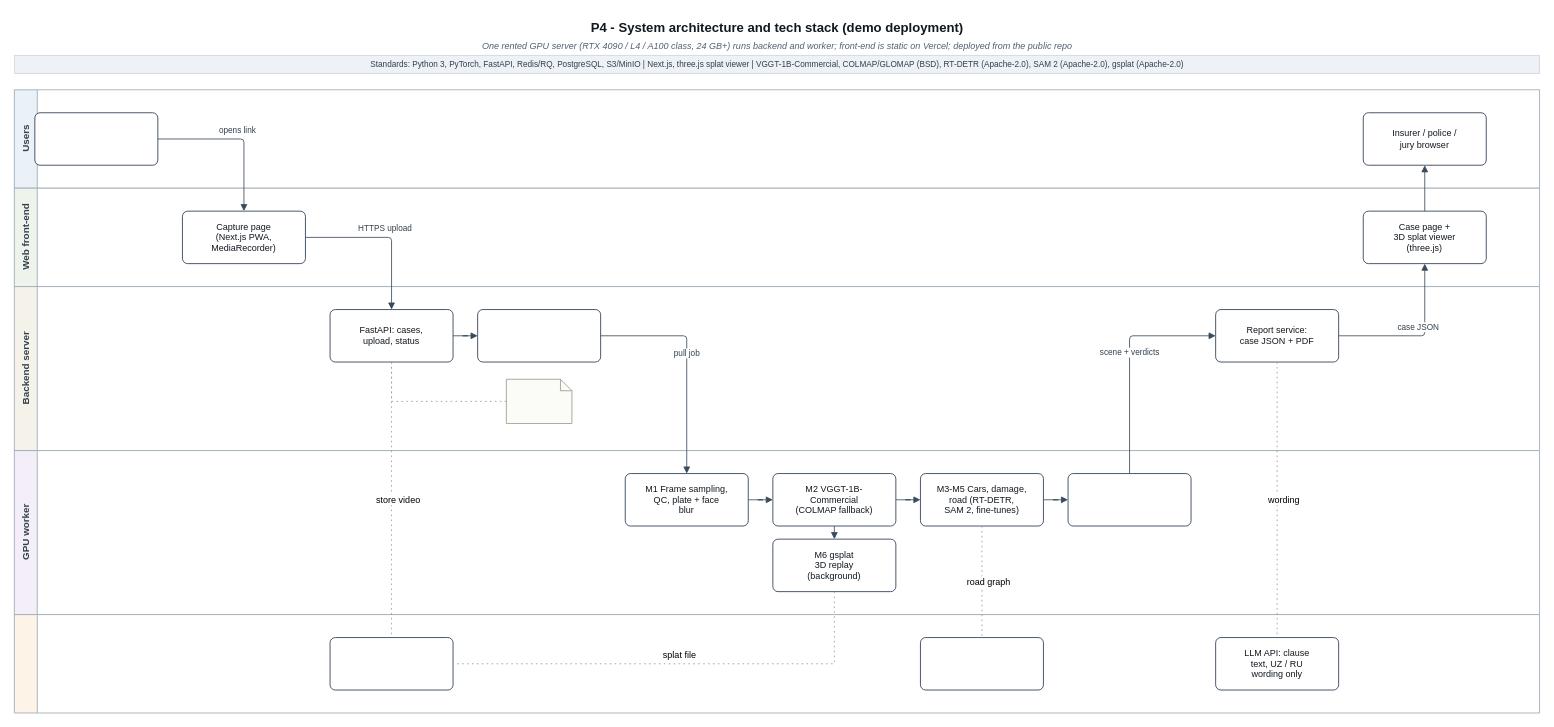
This 1554x727 diagram has some shape labels left out. The box of each missing label's shape, as (x1, y1, x2, y2) in pixels:
Data + external: (14, 614, 1540, 713)
Driver's phone (camera + GPS, any browser): (34, 112, 158, 165)
M7-M8 Physics + rules engine (Res. 172): (1067, 473, 1191, 526)
Object storage (S3 / MinIO): video, frames, splats: (329, 637, 453, 690)
OpenStreetMap (Overpass API): (920, 637, 1043, 690)
PostgreSQL (cases): (506, 378, 572, 424)
Redis + RQ job queue: (477, 309, 601, 362)
